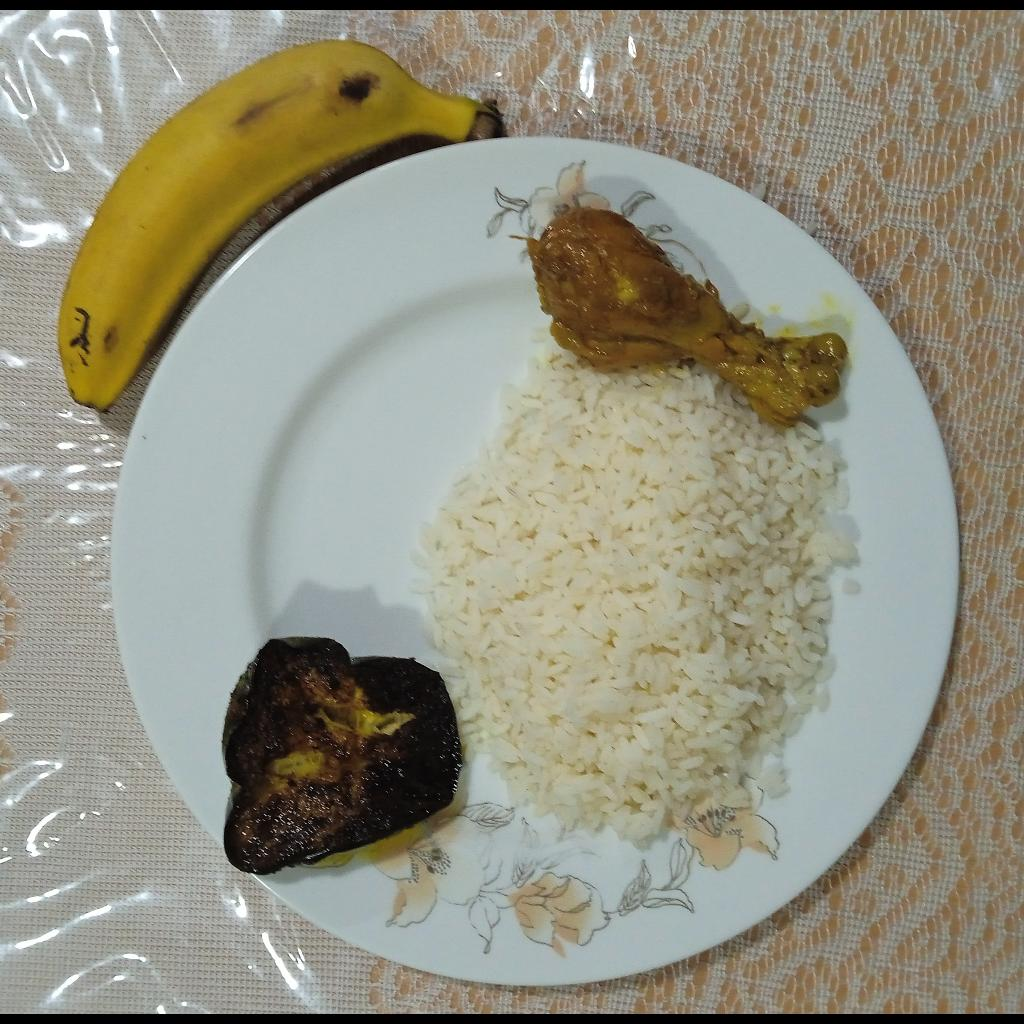banana: (58, 38, 505, 414)
begun-vaji: (222, 636, 463, 873)
chicken: (526, 209, 843, 428)
rice: (416, 335, 861, 846)
